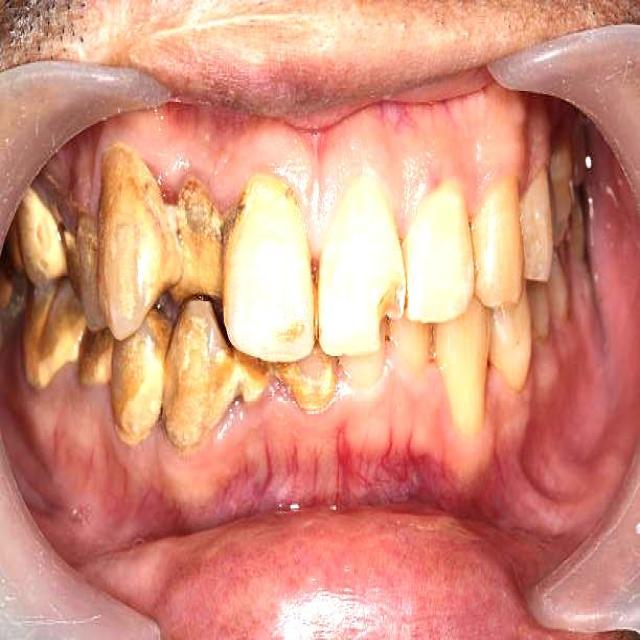caries: (373, 284, 406, 346), (422, 321, 445, 370)
